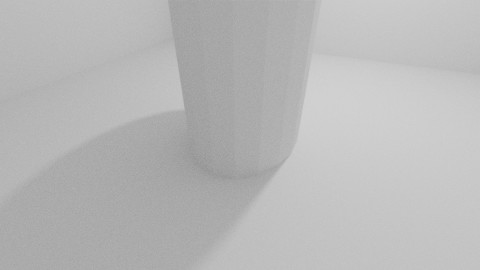cheminee: (168, 1, 322, 179)
